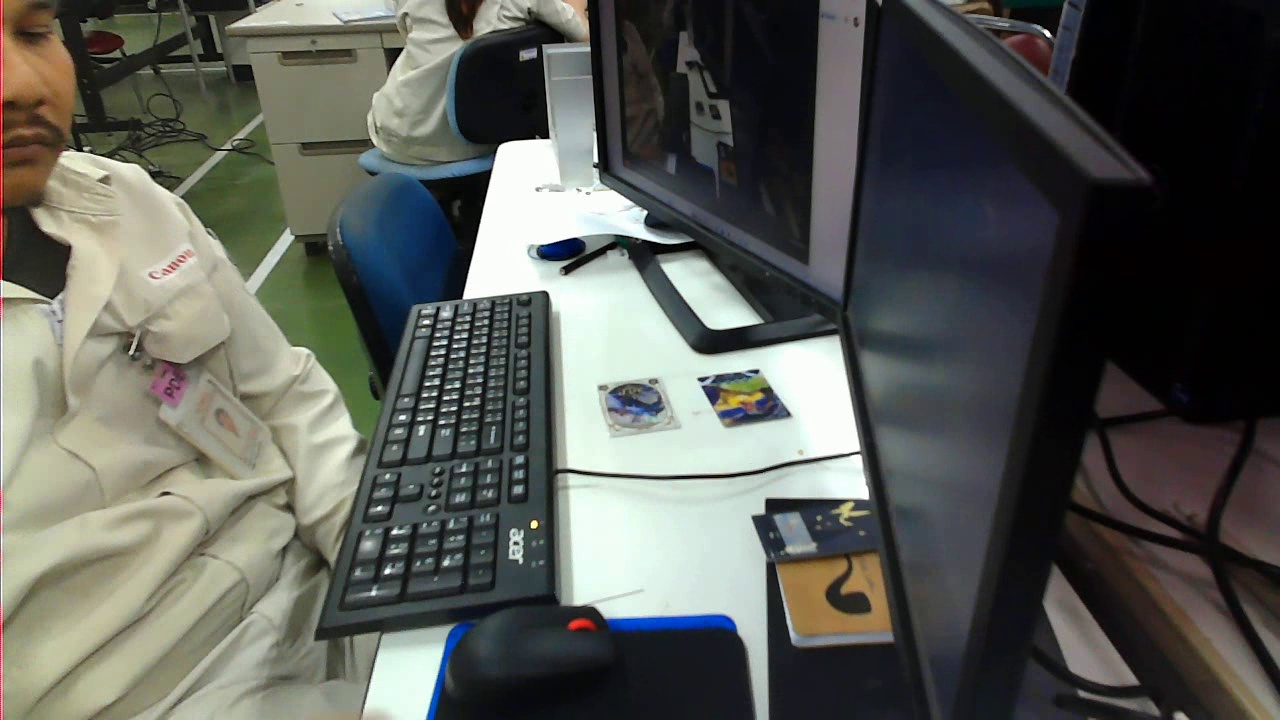can: (691, 361, 793, 427), (590, 369, 680, 436)
